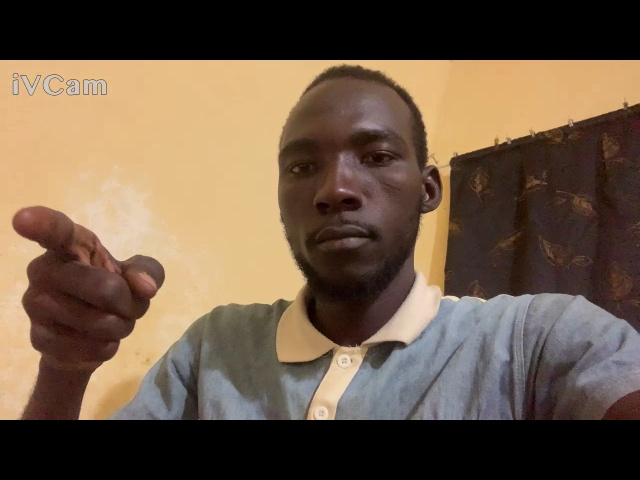tu: (7, 203, 171, 378)
